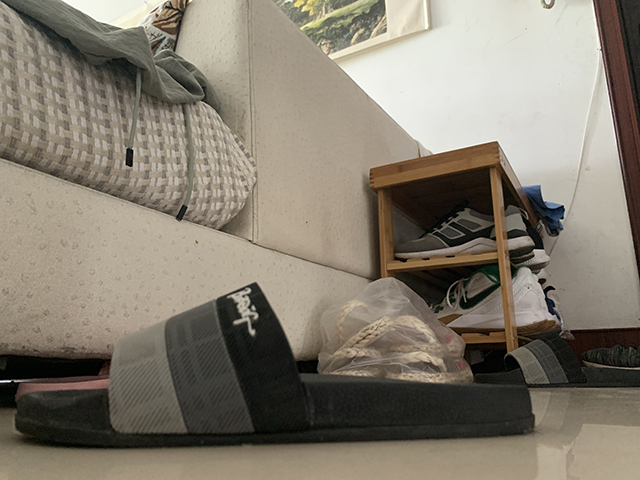slippers: (12, 278, 537, 449), (471, 333, 640, 391)
sofa: (1, 1, 436, 390)
